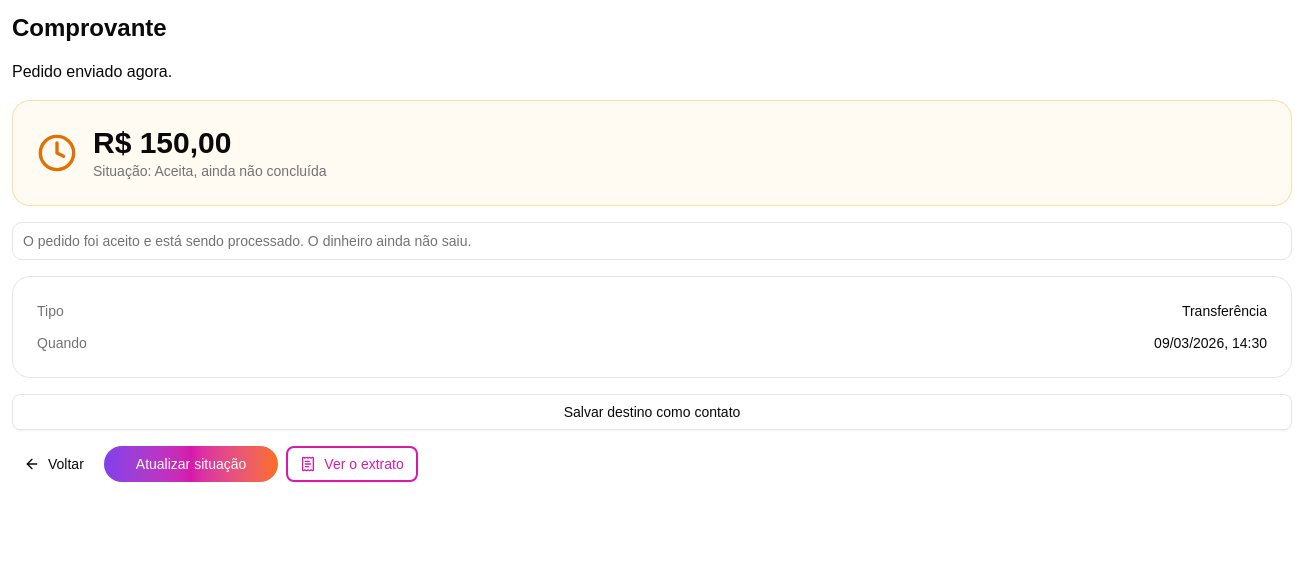
Test case: recibo › a oferta some depois de salvar o contato com sucesso
Click the button "Salvar destino como contato" at (652, 412), box [12,394,1292,430]
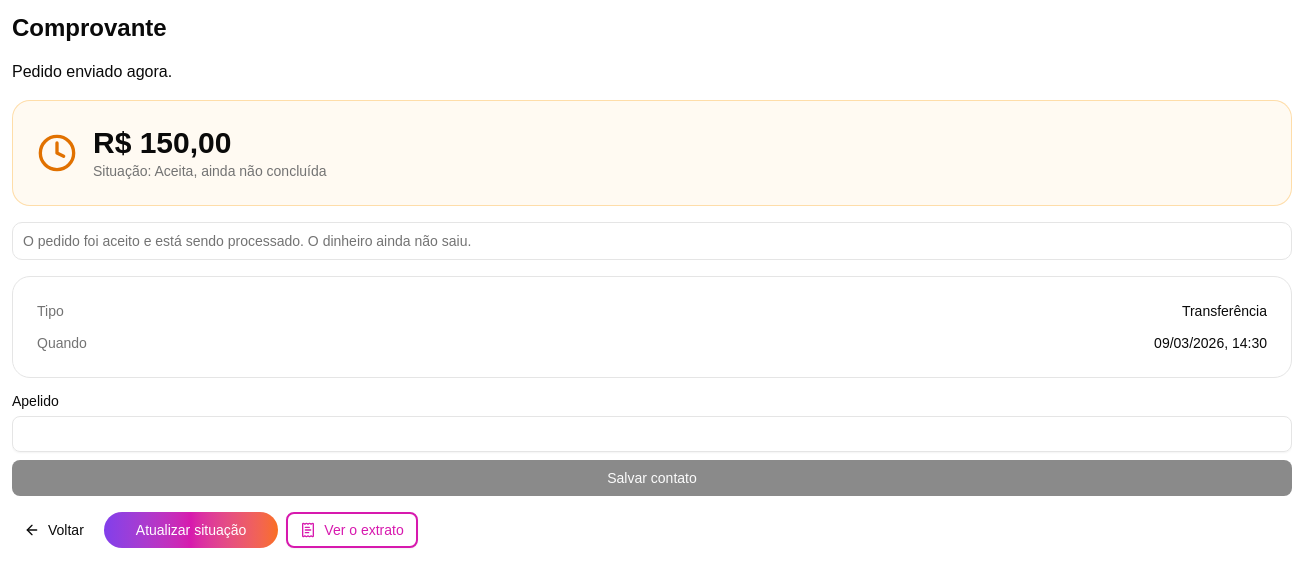
Type "Joao" into the field labelled "Apelido" at (652, 434), box [12,416,1292,452]
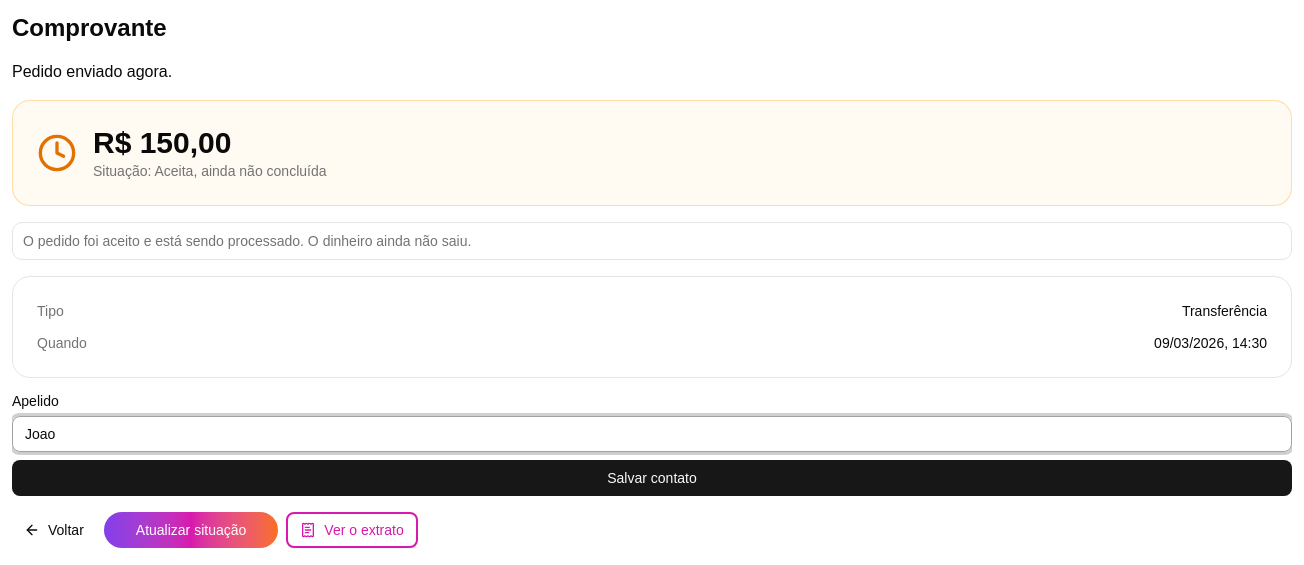
Click the button "Salvar contato" at (652, 478), box [12,460,1292,496]
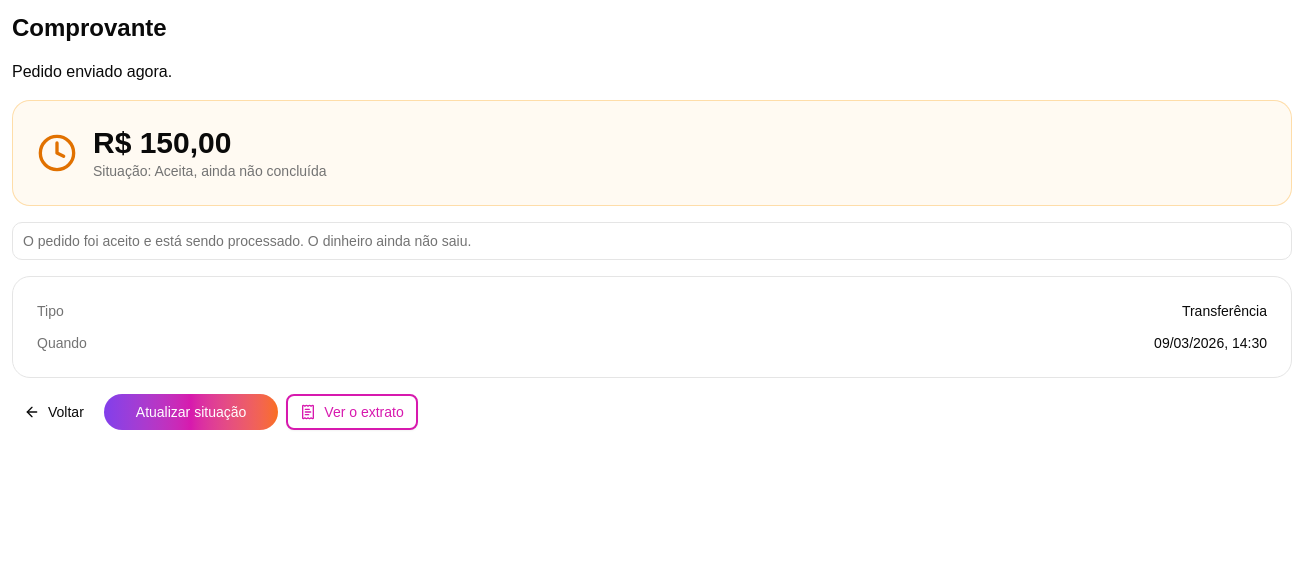
Expected: the button "Salvar destino como contato" is not shown
Expected: the label labelled "Apelido" is gone
